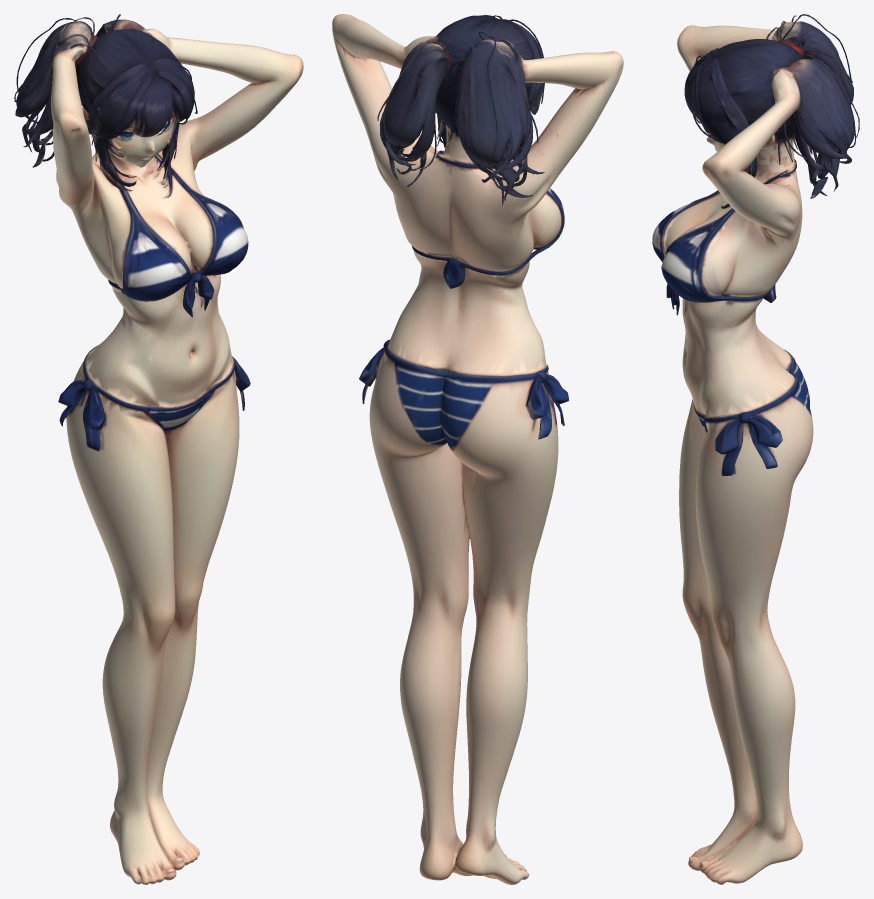
Rendered from bikini_girl.glb.
3 views of the same model, side by side, from view 1: azimuth 30°, elevation 25°; view 2: azimuth 150°, elevation 25°; view 3: azimuth 270°, elevation 25° (orthographic). The views are drawn at different scales.
Parts seen in each view (by area): view 1: Object_4; view 2: Object_4; view 3: Object_4.
Boxes of the visible parts, bbox=[...] form: Object_4: bbox=[14, 14, 303, 884]; Object_4: bbox=[332, 14, 623, 884]; Object_4: bbox=[652, 14, 859, 884].
Size of the model in its own units: 0.3232 by 1 by 0.2259.
1 material, 1 textured.
